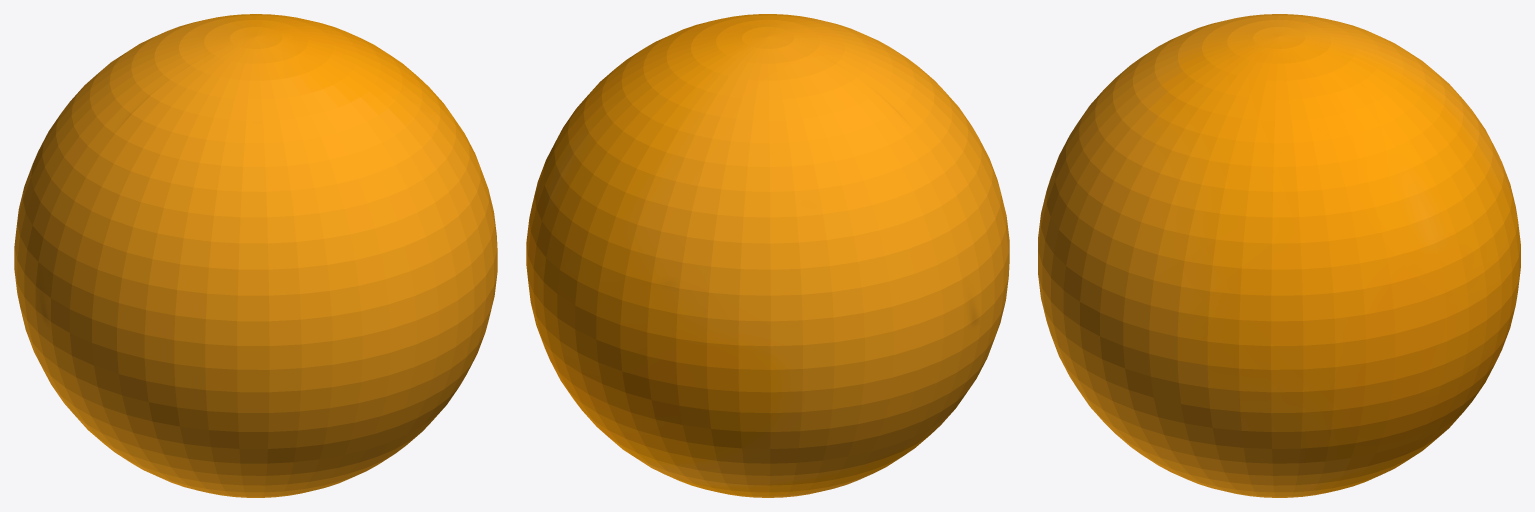
Rendered from Red_unit.obj.
3 renders of one model, left to right at view 1: azimuth 30°, elevation 25°; view 2: azimuth 150°, elevation 25°; view 3: azimuth 270°, elevation 25°, orthographic.
Parts seen in each view (by area): view 1: Sphere; view 2: Sphere; view 3: Sphere.
Part boxes in pixels (x1,y1,x2,y2): Sphere: [14, 14, 497, 497]; Sphere: [526, 14, 1009, 497]; Sphere: [1038, 14, 1520, 497].
Size of the model in its own units: 2 by 2 by 1.99.
Materials: 1 (1 with a texture image).
